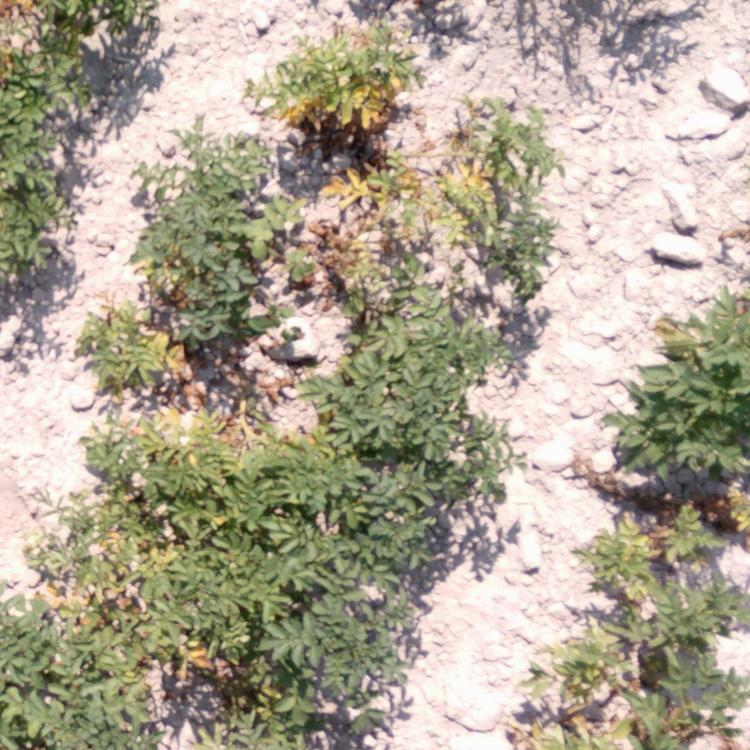healthy: (312, 328, 485, 550), (3, 1, 127, 289), (280, 572, 398, 736), (13, 616, 137, 744), (152, 141, 253, 285), (648, 328, 745, 439)
stressed: (532, 606, 750, 749), (98, 310, 283, 455), (260, 37, 412, 191), (37, 462, 235, 577), (419, 113, 537, 270), (623, 447, 749, 565), (276, 192, 399, 311), (141, 597, 261, 687)
